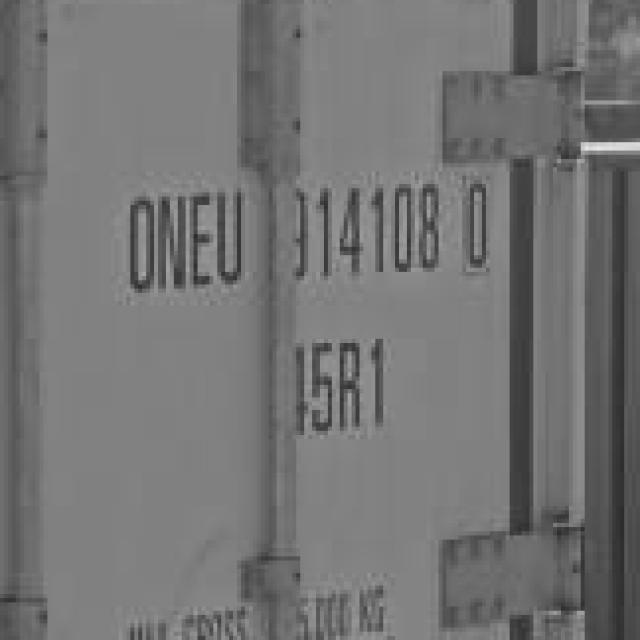dv: (458, 166, 506, 281)
owner: (118, 172, 250, 308)
serial: (282, 167, 445, 296)
size: (262, 332, 412, 443)
